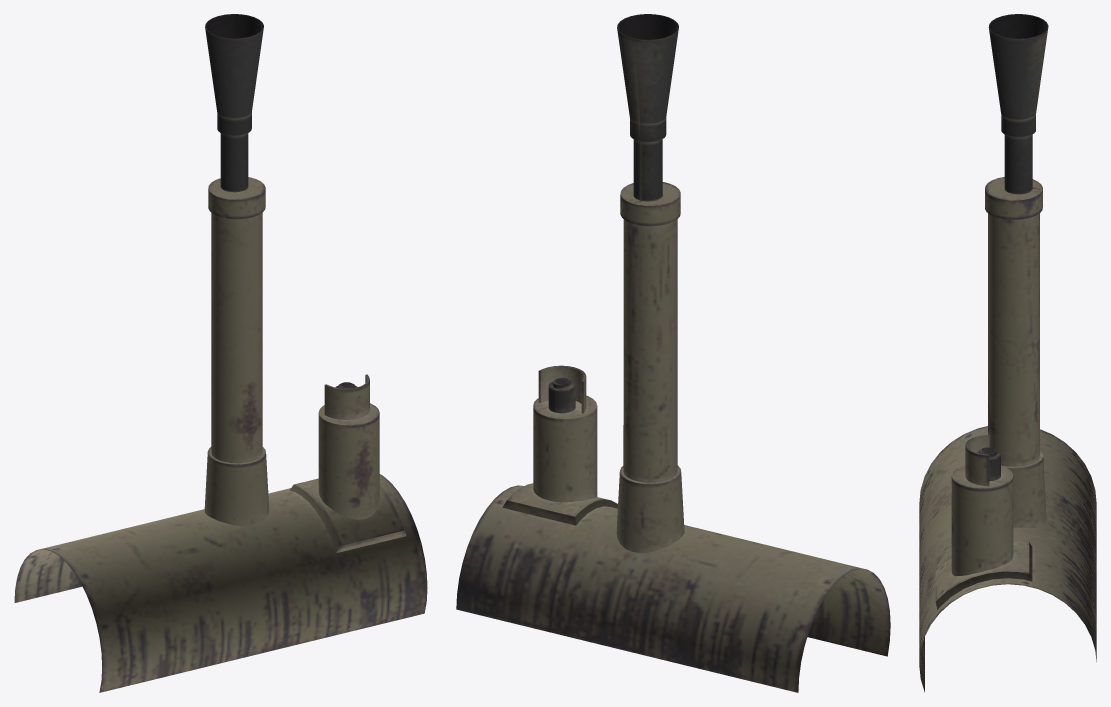
The model's file is Gun_03.glb.
3 renders of one model, left to right at view 1: azimuth 30°, elevation 25°; view 2: azimuth 150°, elevation 25°; view 3: azimuth 270°, elevation 25°, orthographic. The views are drawn at different scales.
Visible parts, largest first — view 1: set_0_group_0; view 2: set_0_group_0; view 3: set_0_group_0.
Part boxes in pixels (x1=…): set_0_group_0: x1=14, y1=14, x2=427, y2=692; set_0_group_0: x1=456, y1=14, x2=890, y2=692; set_0_group_0: x1=919, y1=14, x2=1096, y2=692.
Bounding box in the file's own units: 0.8801 × 1.52 × 0.4109.
Materials: 1 (1 with a texture image).
